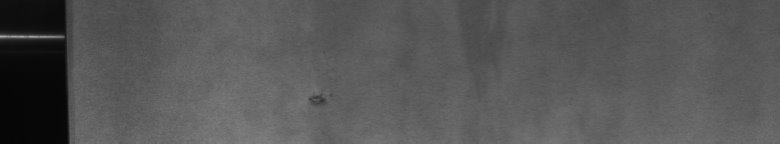fi: (300, 87, 333, 112)
